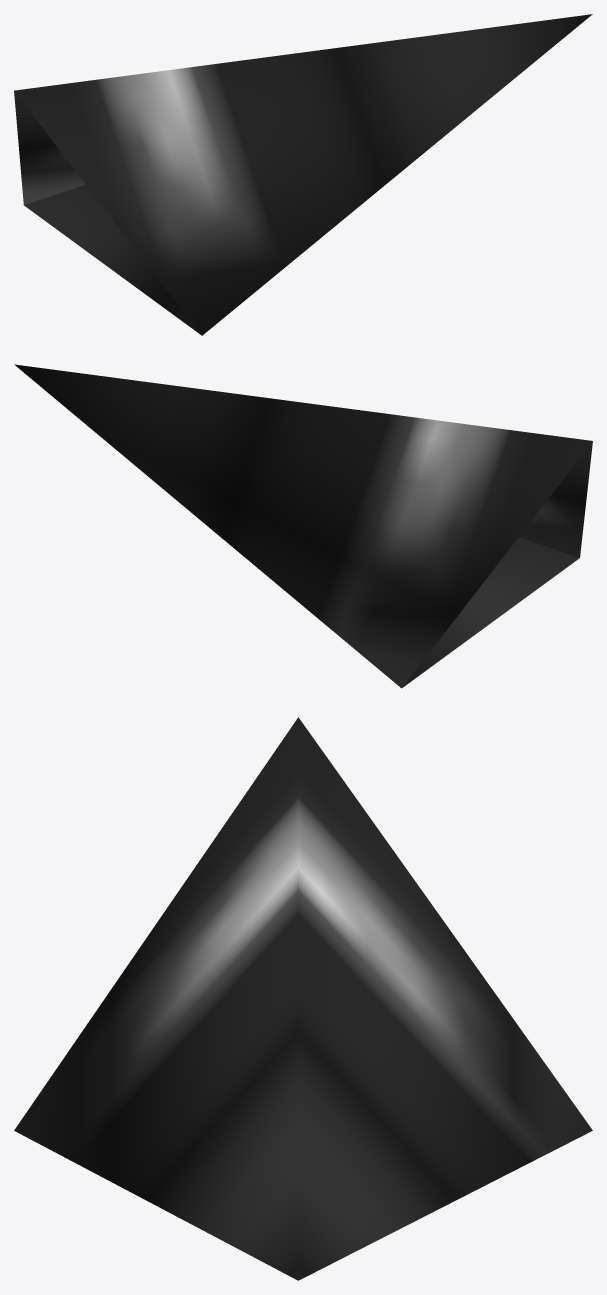
File: shaft_std_LFr_lod.dae
3 views of the same model, one above another, from view 1: azimuth 30°, elevation 25°; view 2: azimuth 150°, elevation 25°; view 3: azimuth 270°, elevation 25° (orthographic). The views are drawn at different scales.
Visible parts, largest first — view 1: _0_0_node; view 2: _0_0_node; view 3: _0_0_node.
Boxes of the visible parts, bbox=[...] form: _0_0_node: bbox=[14, 14, 592, 335]; _0_0_node: bbox=[14, 364, 592, 688]; _0_0_node: bbox=[14, 717, 592, 1280].
Bounding box in the file's own units: 3.42 × 1.16 × 1.82.
Materials: 1 (1 with a texture image).
